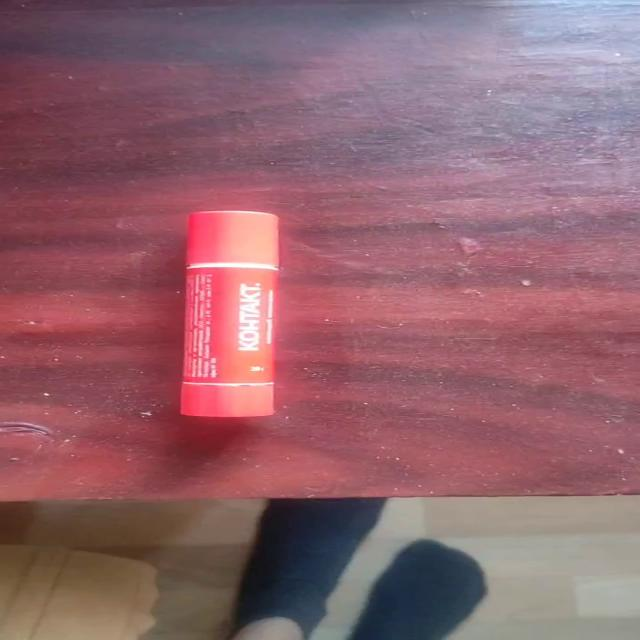glue: (178, 209, 281, 418)
